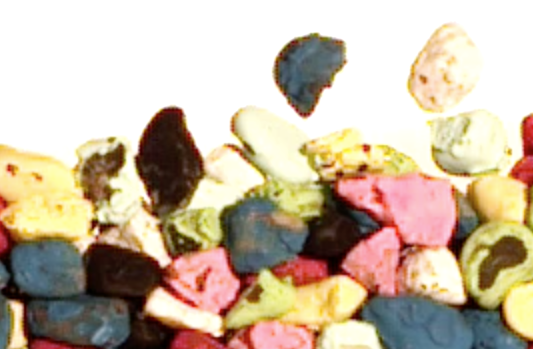black: (134, 108, 203, 210), (85, 241, 160, 298), (308, 196, 356, 271)
blue: (221, 196, 304, 273), (363, 292, 474, 349), (274, 34, 348, 118), (22, 296, 128, 347), (11, 242, 85, 298)
green: (457, 222, 533, 309), (224, 271, 297, 329), (242, 179, 323, 216), (161, 212, 220, 252)
pink: (378, 178, 453, 247), (160, 255, 242, 313), (341, 224, 399, 295), (334, 175, 388, 222)
white: (230, 104, 328, 182), (406, 22, 484, 114), (424, 110, 513, 175), (75, 138, 136, 217), (90, 205, 171, 264), (398, 246, 472, 307), (197, 143, 262, 210), (145, 287, 227, 336)
yellow: (1, 189, 89, 242), (1, 143, 79, 197), (285, 276, 368, 324), (300, 126, 383, 173), (469, 174, 529, 225)
